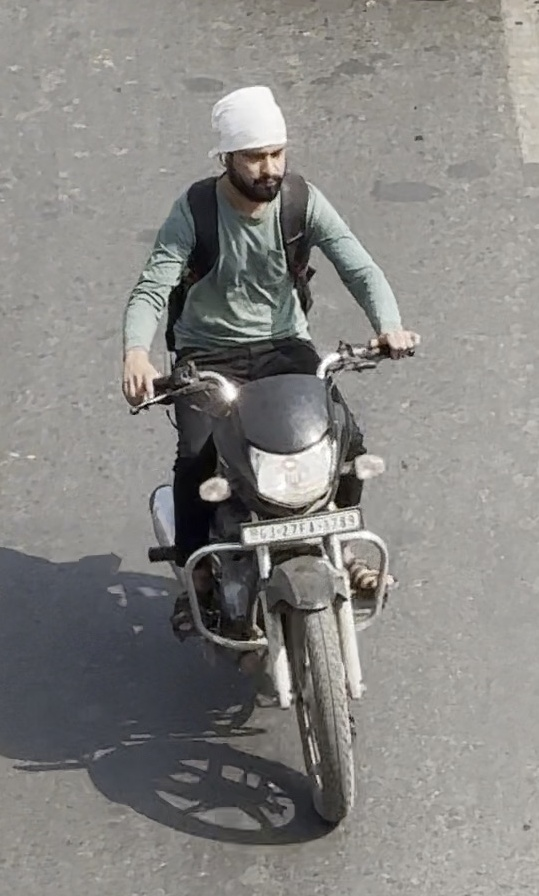BikeWithRider: (108, 73, 430, 834)
NoHelmet: (195, 77, 305, 204)
